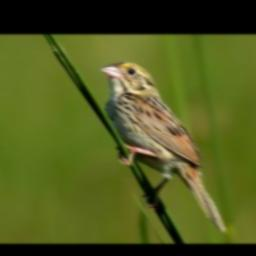Sparrow: (98, 61, 229, 238)
